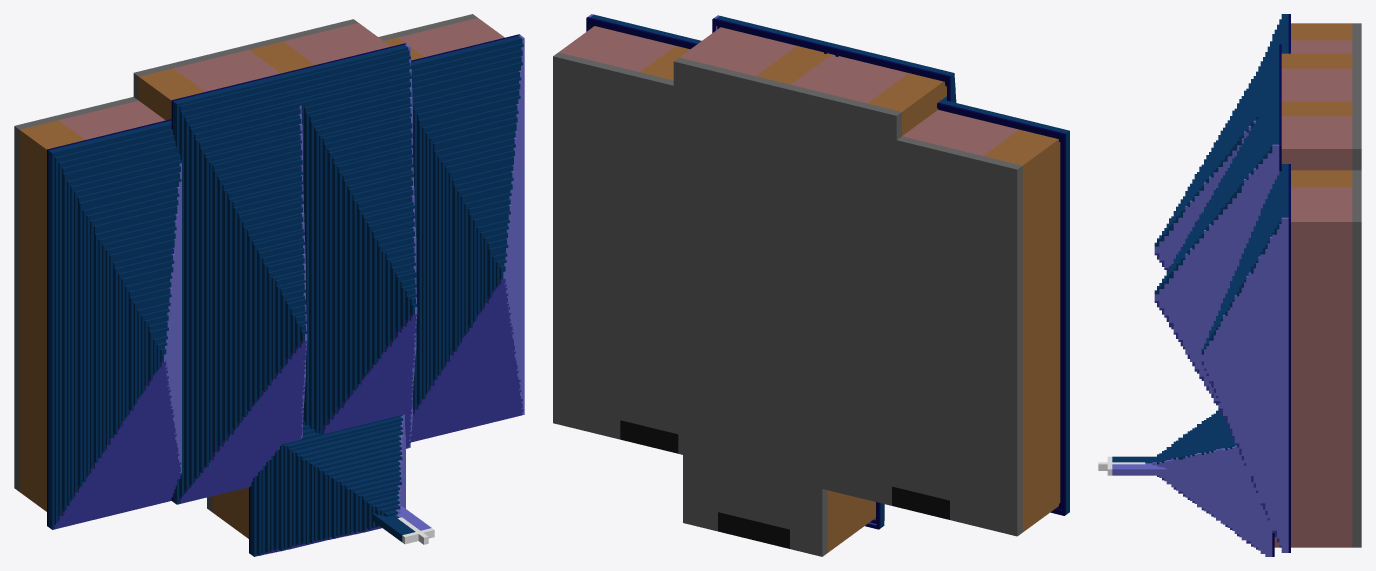
The model's file is blue_house_1.obj.
3 renders of one model, left to right at view 1: azimuth 30°, elevation 25°; view 2: azimuth 150°, elevation 25°; view 3: azimuth 270°, elevation 25°, orthographic. The views are drawn at different scales.
Size of the model in its own units: 20.6 by 19.5 by 11.2.
1 material, 1 textured.
